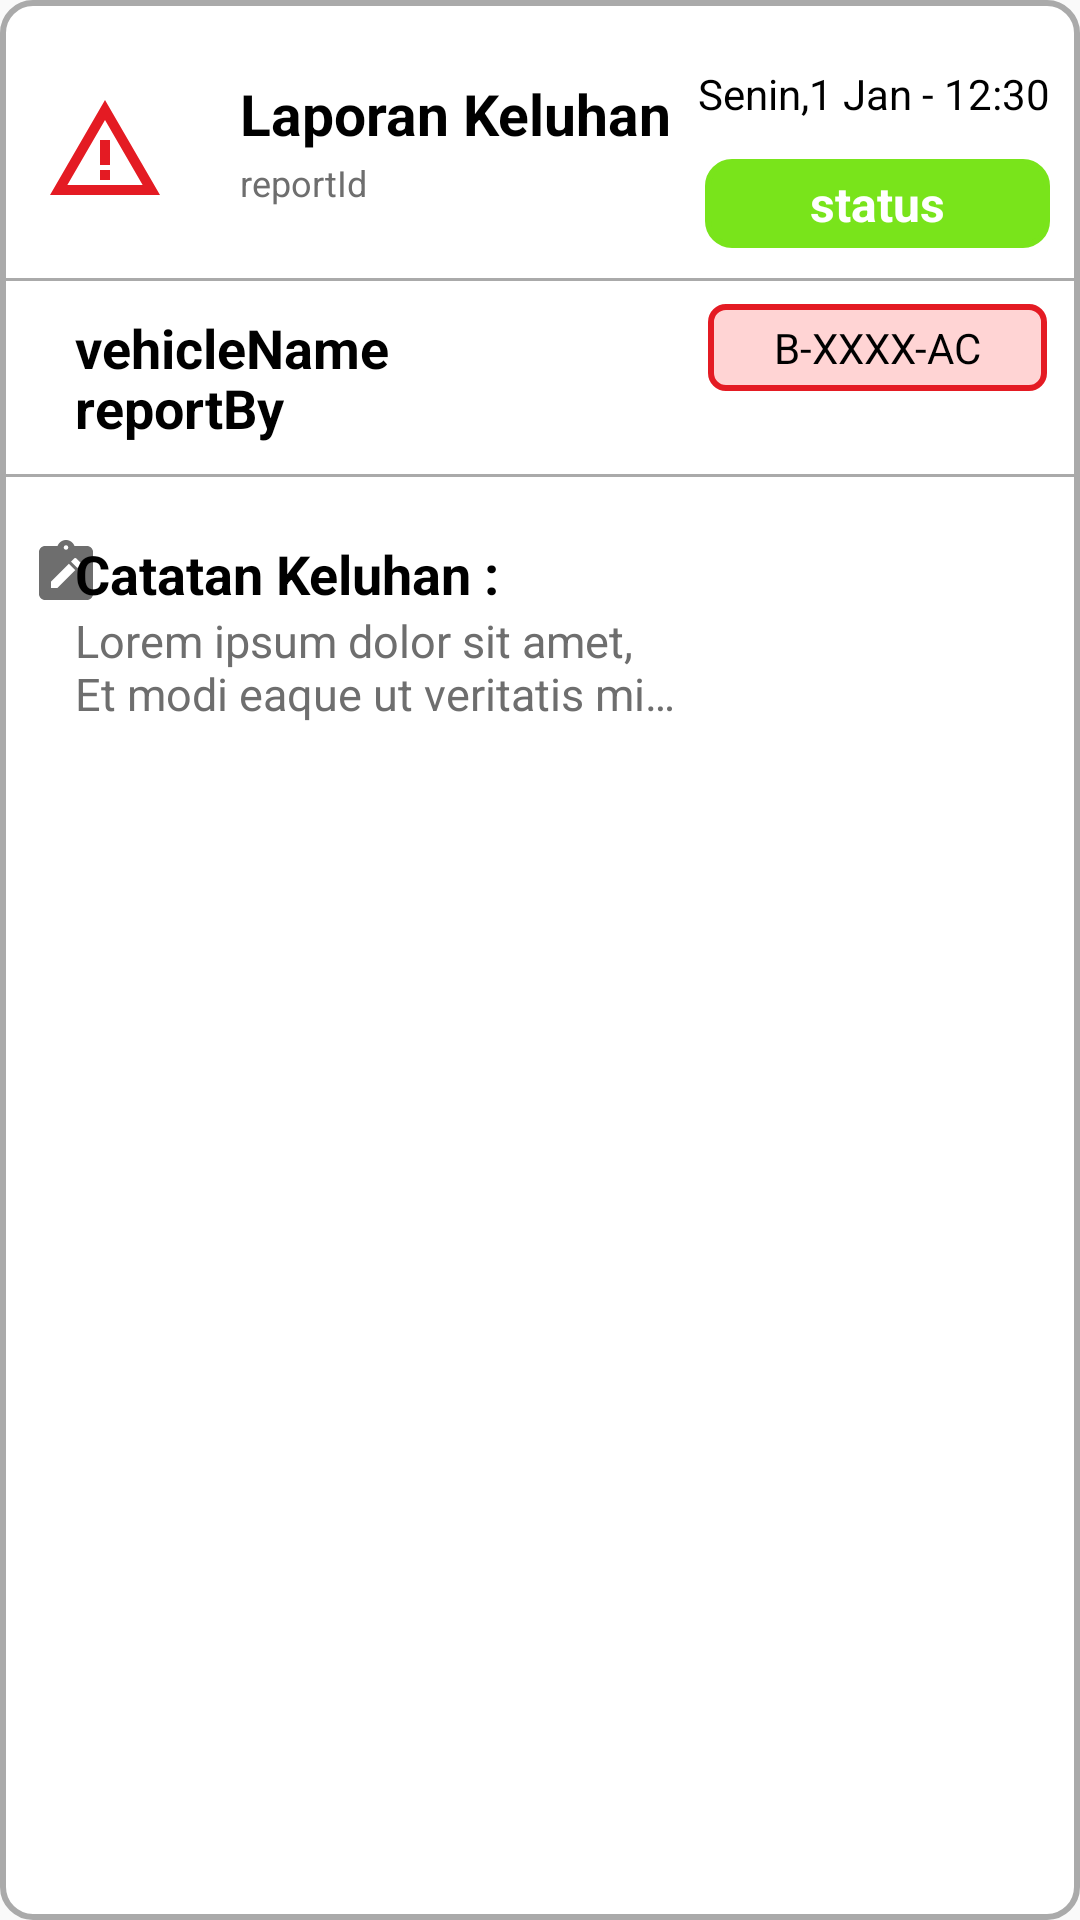

Icons on this 1080 x 1920 Android screen, each with its box as {"left": x1, "top": y1, "right": x2, "bottom": y2}:
note: {"left": 39, "top": 540, "right": 102, "bottom": 600}
warning: {"left": 50, "top": 100, "right": 160, "bottom": 195}
